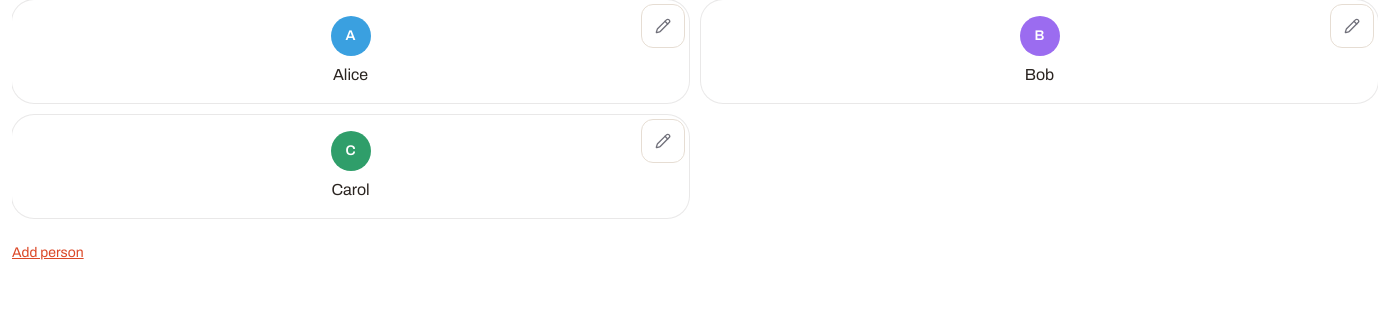
Test: PersonSlotPicker › Test 14b: a failed rename keeps the form open and shows an error
This screenshot has width=1378, height=318.
Click the button named "Rename Alice": (663, 26) [641,4,685,48]
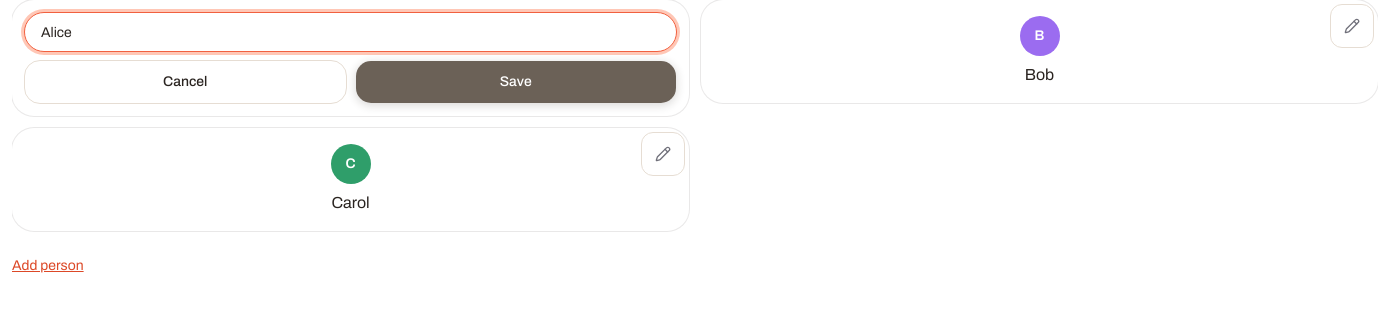
Replace the text in the field with placeholder "Name" with "Alicia": (350, 32) [24,12,677,52]
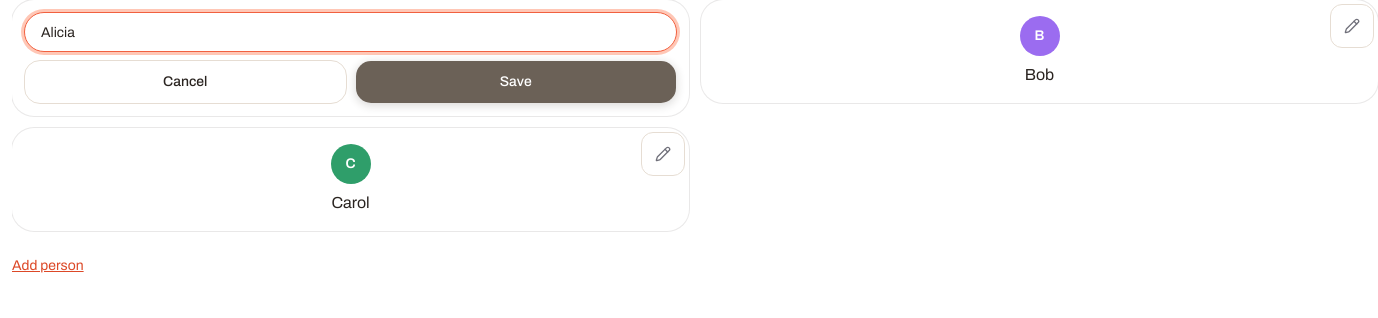
Click the button "Save": (516, 82) [354,60,677,104]
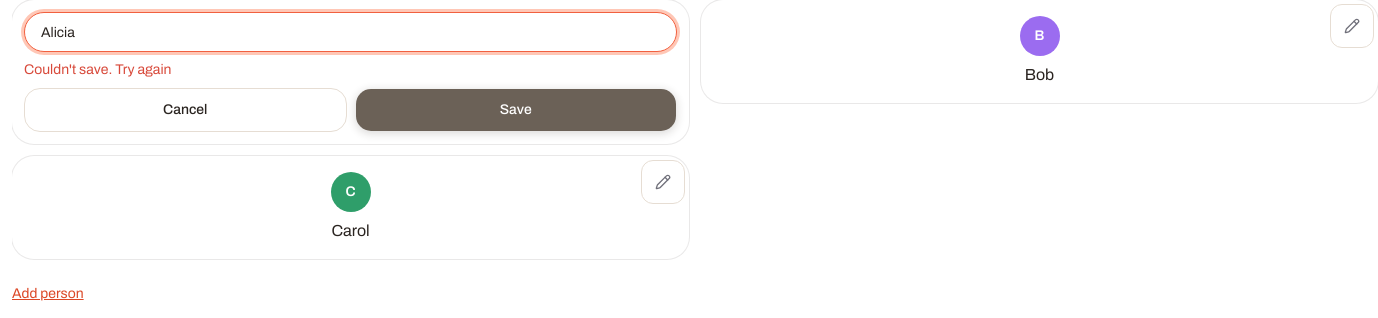
Result: the message reads "Couldn't save. Try again" at [24,62,172,77]
